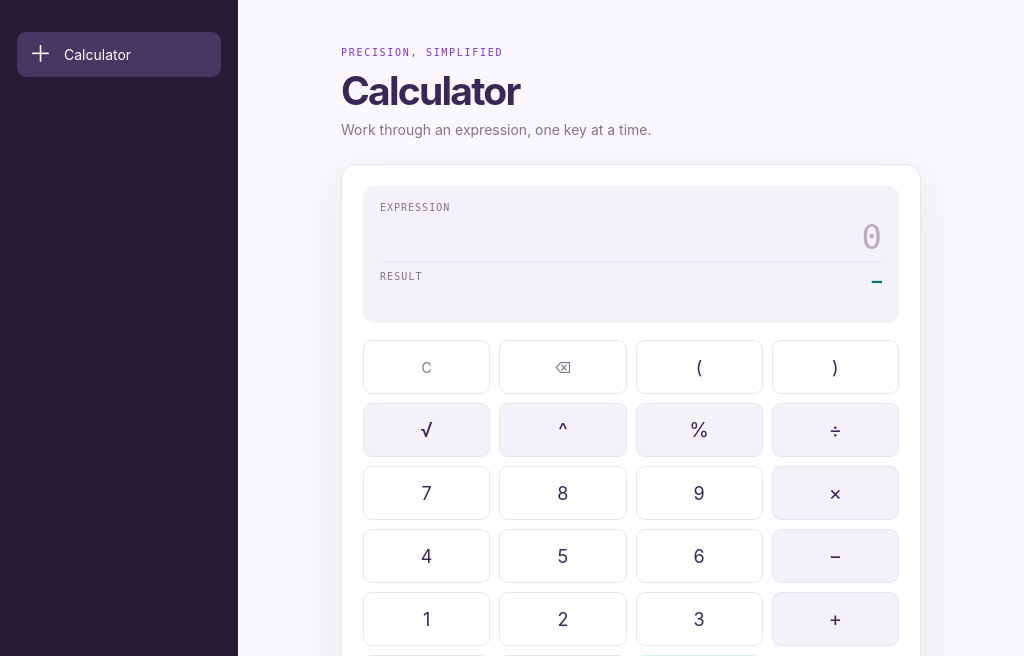
calculator › shows a recovery message if the service cannot be reached
Click the button "1" at (427, 619), box [363,592,490,646]
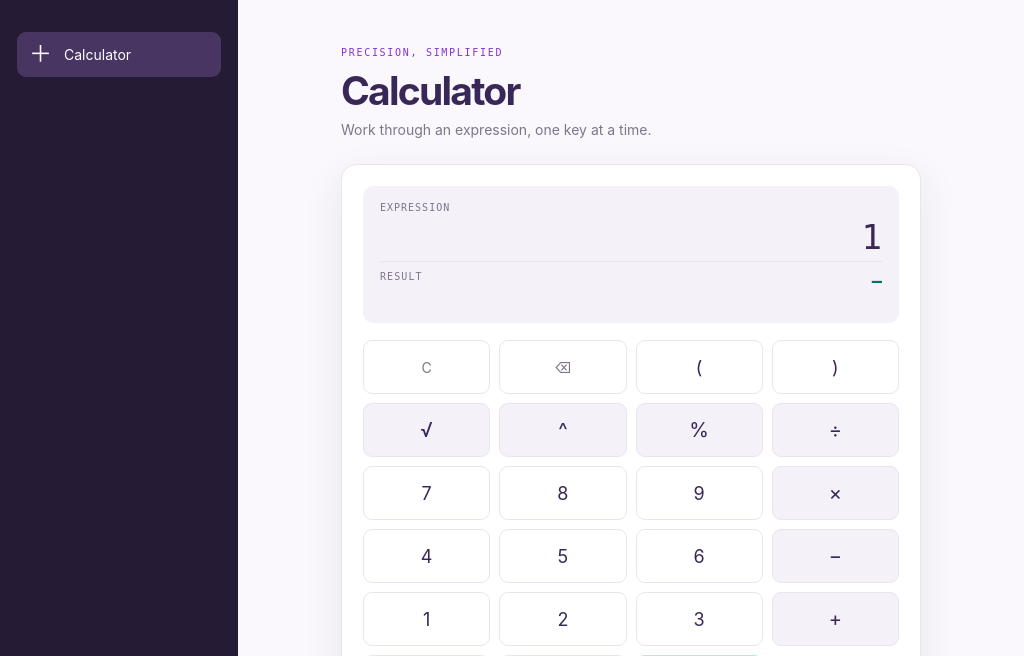
Click the button "+" at (835, 619), box [772,592,899,646]
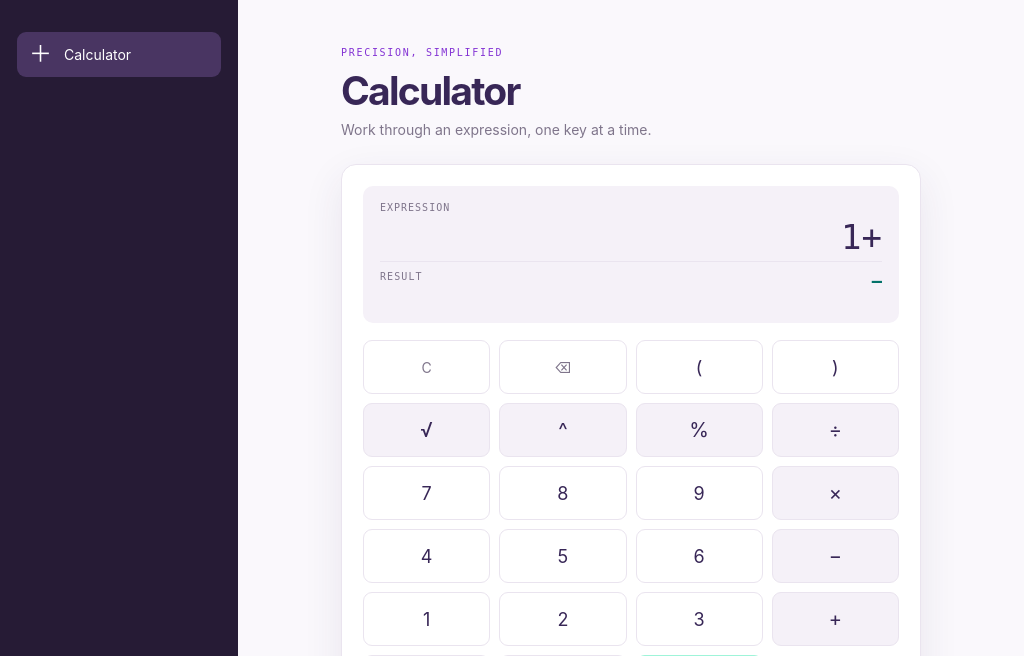
Click the button "1" at (427, 619), box [363,592,490,646]
(page scrolled)
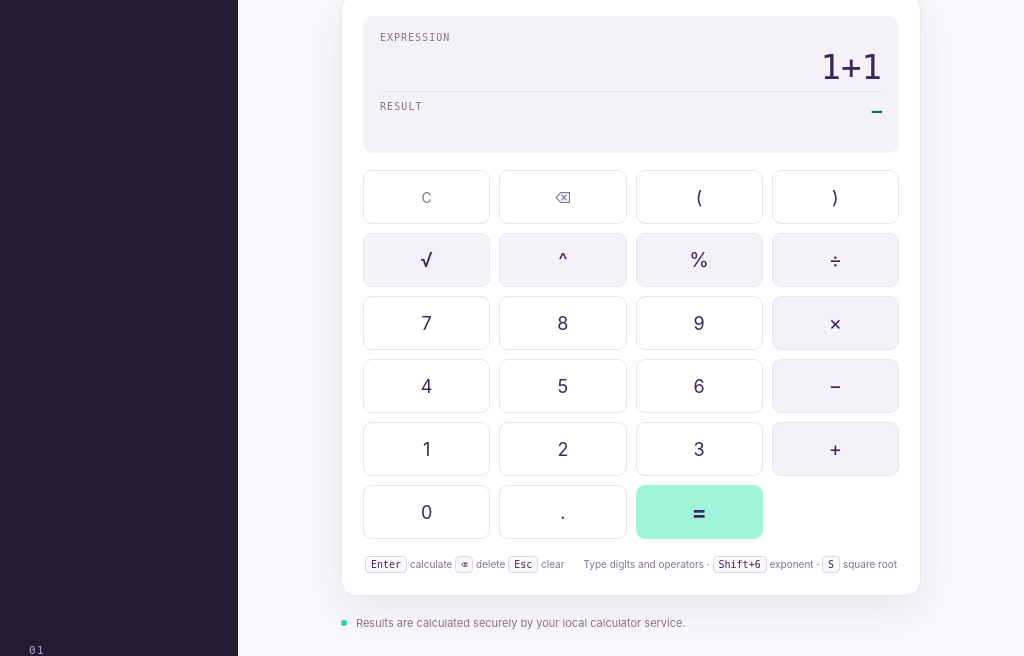
Click the button "=" at (699, 512), box [636,485,763,539]
(page scrolled)
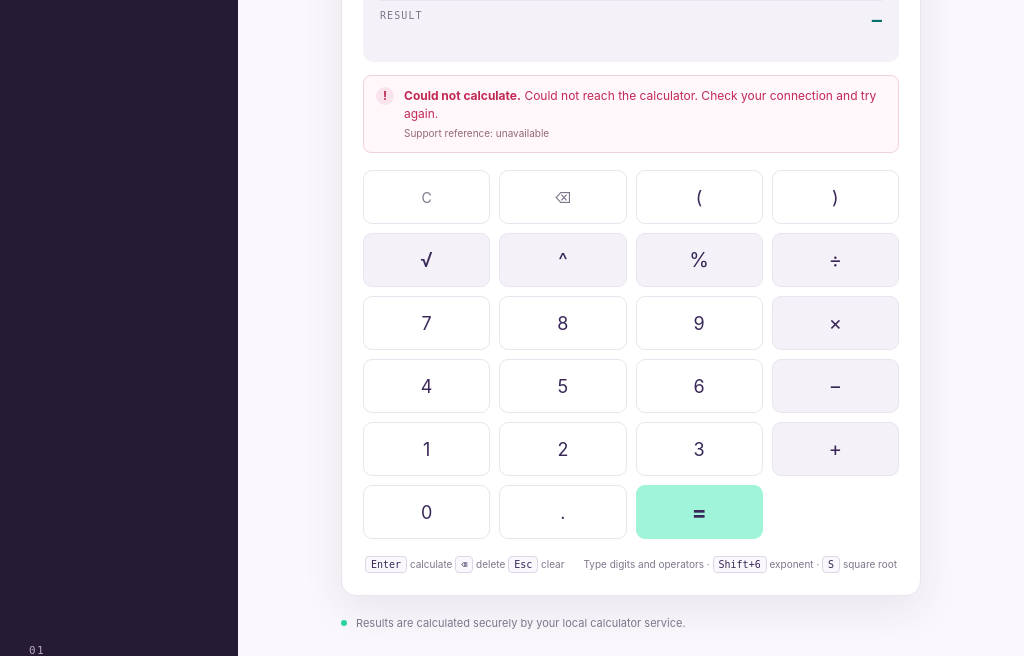
Expected: the message that starts with "Could not calculate." does not show "network details", [363,75,899,153]
Now the message that starts with "Could not calculate." shows "Could not reach the calculator", box [404,88,876,121]
Now the message that starts with "Could not calculate." shows "Support reference: unavailable", box [363,75,899,153]
